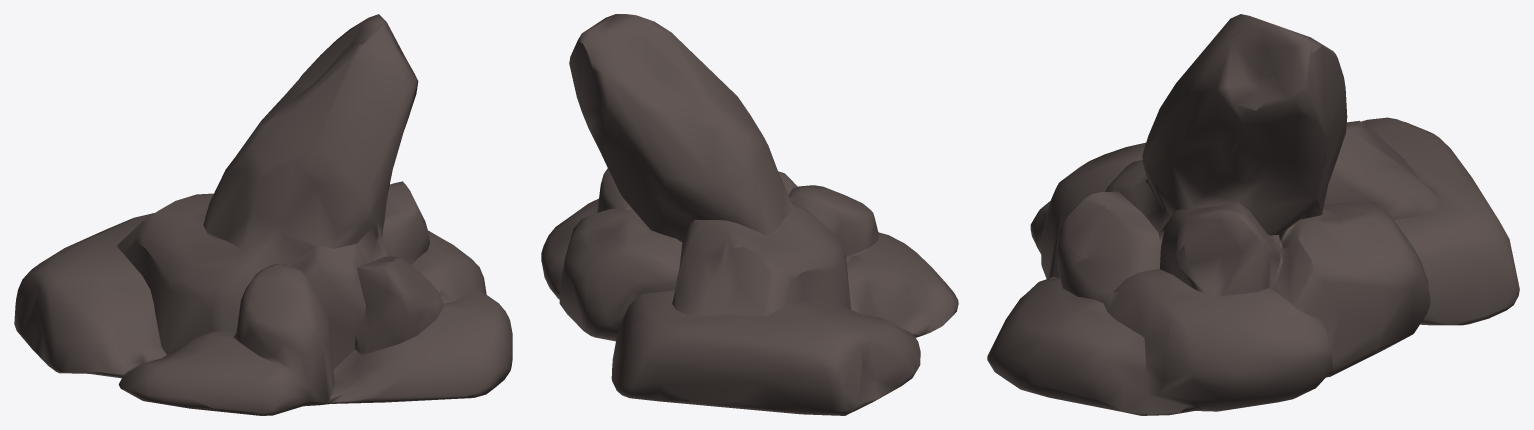
The model's file is Environment_Cliff4.low.gltf.
The picture shows the model from 3 angles, left to right: view 1: azimuth 30°, elevation 25°; view 2: azimuth 150°, elevation 25°; view 3: azimuth 270°, elevation 25°; orthographic projection. The views are drawn at different scales.
Parts seen in each view (by area): view 1: Environment_Cliff4; view 2: Environment_Cliff4; view 3: Environment_Cliff4.
Boxes of the visible parts, x1=… form: Environment_Cliff4: x1=14, y1=14, x2=512, y2=415; Environment_Cliff4: x1=541, y1=14, x2=958, y2=415; Environment_Cliff4: x1=987, y1=14, x2=1519, y2=415.
Size of the model in its own units: 7.37 by 5.52 by 7.11.
1 material, 1 textured.
